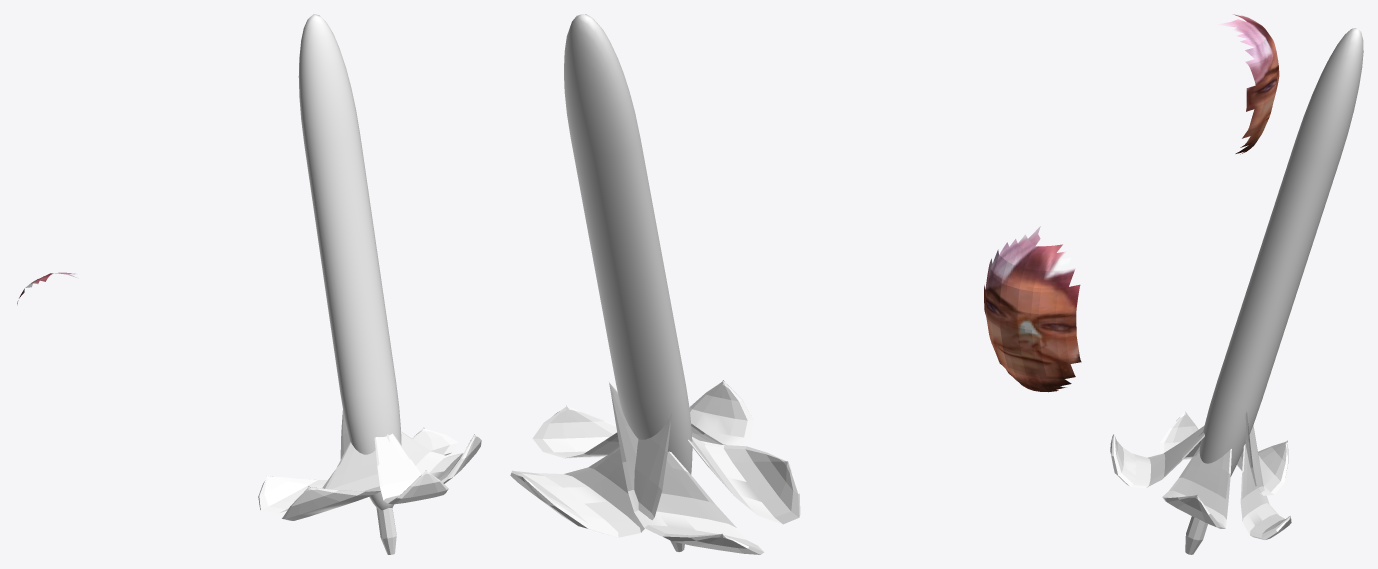
The model's file is flo Ragdoll.glb.
3 views of the same model, side by side, from view 1: azimuth 30°, elevation 25°; view 2: azimuth 150°, elevation 25°; view 3: azimuth 270°, elevation 25° (orthographic). The views are drawn at different scales.
Visible parts, largest first — view 1: Capsule, Cube.004, Cube, Cube.001, Cube.003, Cube.002, Cylinder; view 2: Capsule, f, Cube.002, Cube.003, Cube.004, Cube.001, Cube; view 3: Capsule, Cube.001, f, Cube.002, Cube, Cube.003, Cube.004, Cylinder.
Part boxes in pixels (x1,y1,x2,y2): Capsule: [298, 14, 401, 510]; Cube.004: [282, 434, 389, 520]; Cube: [374, 433, 448, 504]; Cube.001: [401, 431, 481, 483]; Cube.003: [258, 471, 334, 513]; Cube.002: [340, 410, 458, 459]; Cylinder: [376, 507, 396, 554]; Capsule: [564, 14, 692, 474]; f: [984, 226, 1081, 392]; Cube.002: [510, 413, 671, 537]; Cube.003: [609, 382, 763, 554]; Cube.004: [688, 437, 800, 524]; Cube.001: [532, 405, 619, 458]; Cube: [689, 380, 753, 445]; Capsule: [1199, 28, 1363, 476]; Cube.001: [1162, 446, 1231, 528]; f: [1215, 14, 1279, 154]; Cube.002: [1240, 425, 1291, 539]; Cube: [1110, 425, 1204, 487]; Cube.003: [1237, 411, 1288, 495]; Cube.004: [1160, 411, 1203, 459]; Cylinder: [1185, 516, 1207, 554].
Bounding box in the file's own units: 4.75 × 4.88 × 2.13.
5 materials, 1 textured.
